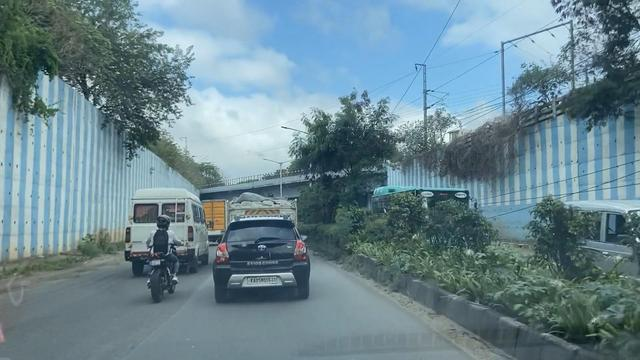HMV: (129, 193, 207, 272)
LMV: (214, 217, 304, 299), (136, 212, 178, 308)
